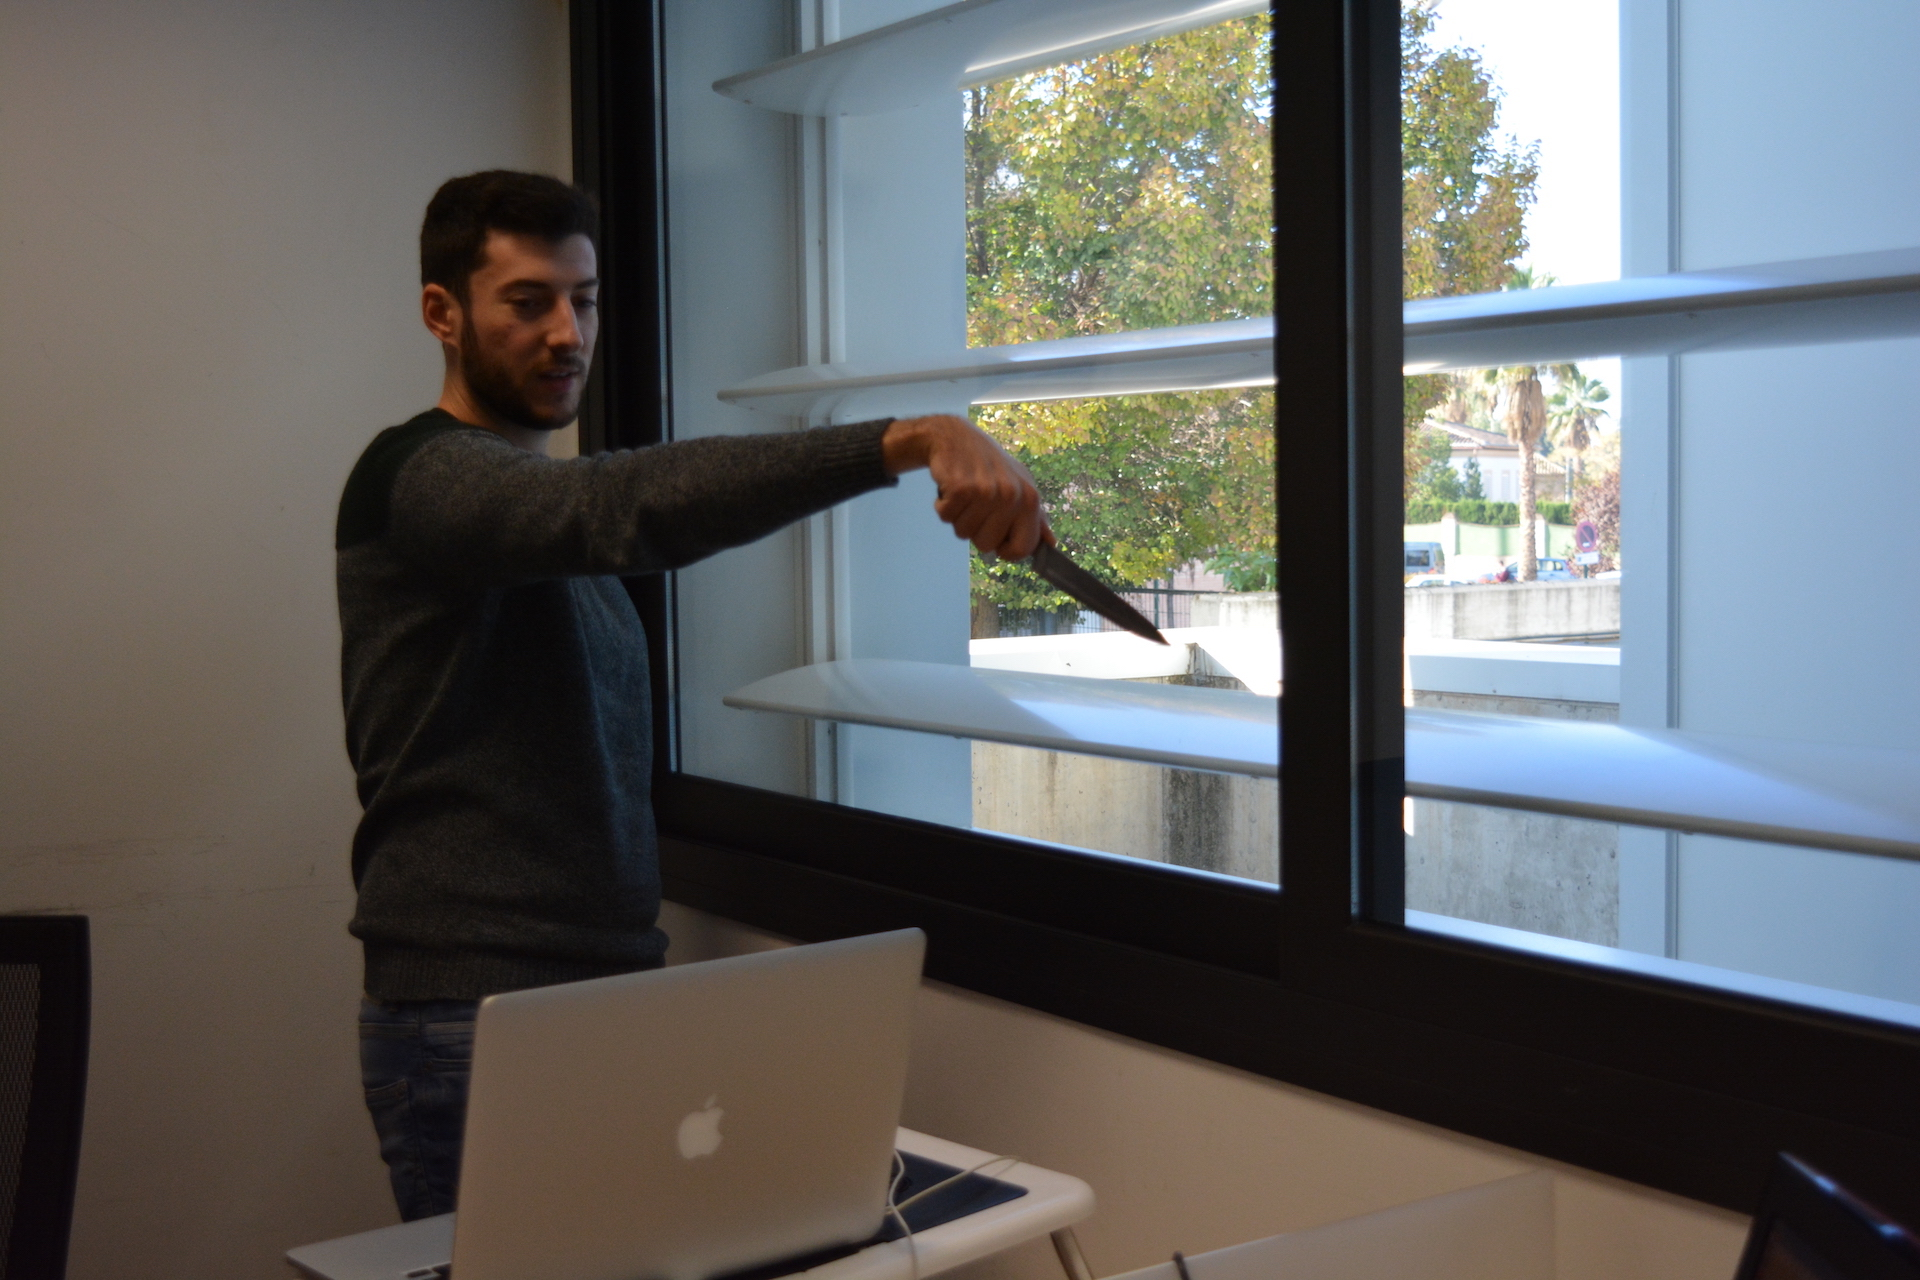knife: (993, 523, 1177, 654)
